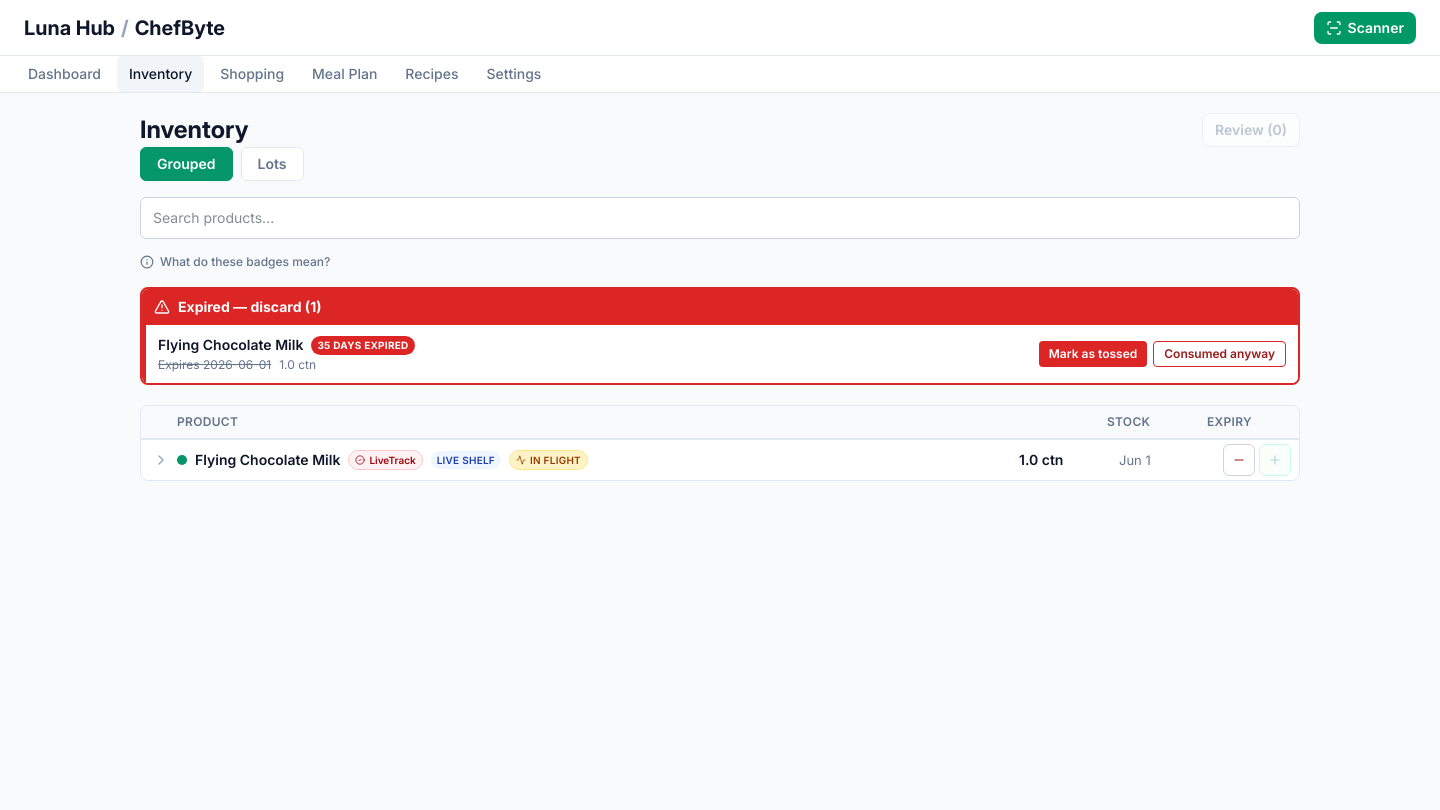
Test case: CloseInFlightModal — badge → modal flow › clicking the In-Flight badge opens the modal scoped to the lot
Expected: the element with test id "inv-product-prod-flying" is shown, [141, 440, 1299, 480]
# Click the per-product badge in the grouped view
Click the button with test id "inflight-badge": point(548, 460) [509, 450, 588, 470]
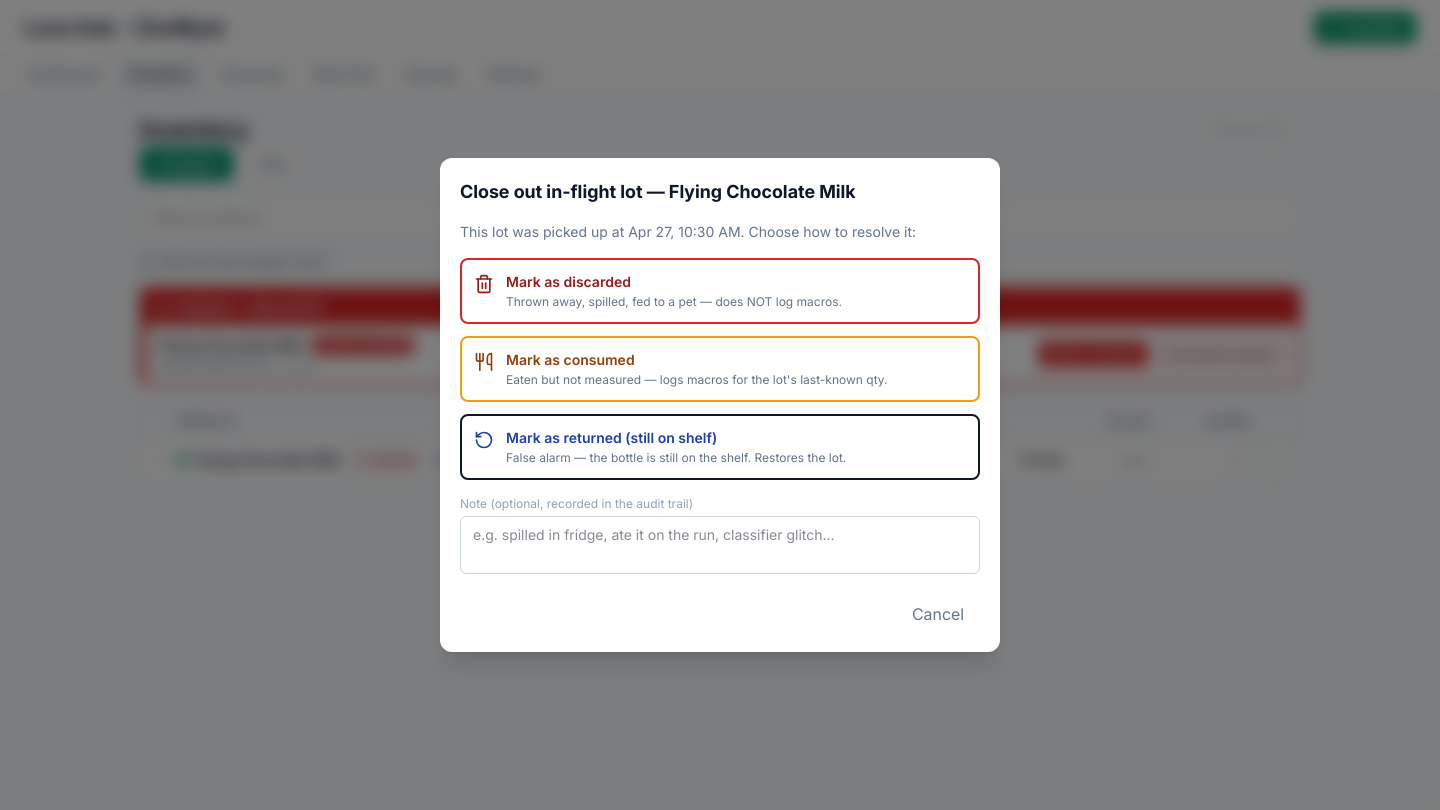
Expected: the element with test id "close-in-flight-modal" is shown
Expected: the heading "Close out in-flight lot — Flying Chocolate Milk" is shown, [460, 181, 856, 202]
Expected: the text with test id "close-modal-subtitle" shows "picked up at", [460, 223, 916, 240]
